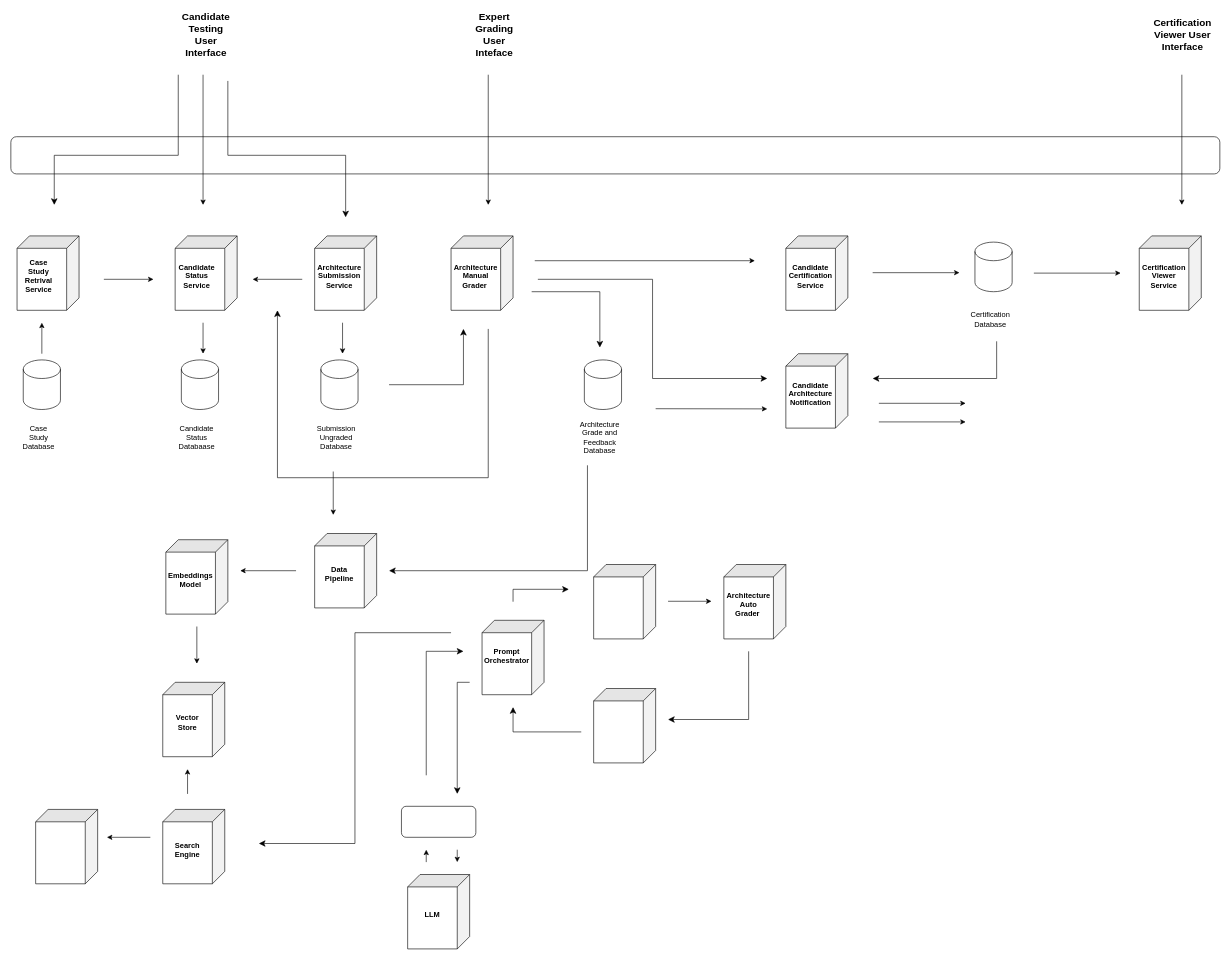
The diagram is 1231 pixels wide and 960 high, and some of its shapes have lost their labels. Here are the shapes that lost their labels. From the top down, the box of each, then its label:
(10, 136, 1220, 174): Public API Gateway
(593, 564, 656, 639): Response Filter
(593, 688, 656, 763): Prompt Validation
(401, 806, 476, 837): LLM Cache
(35, 809, 98, 884): Ranking
